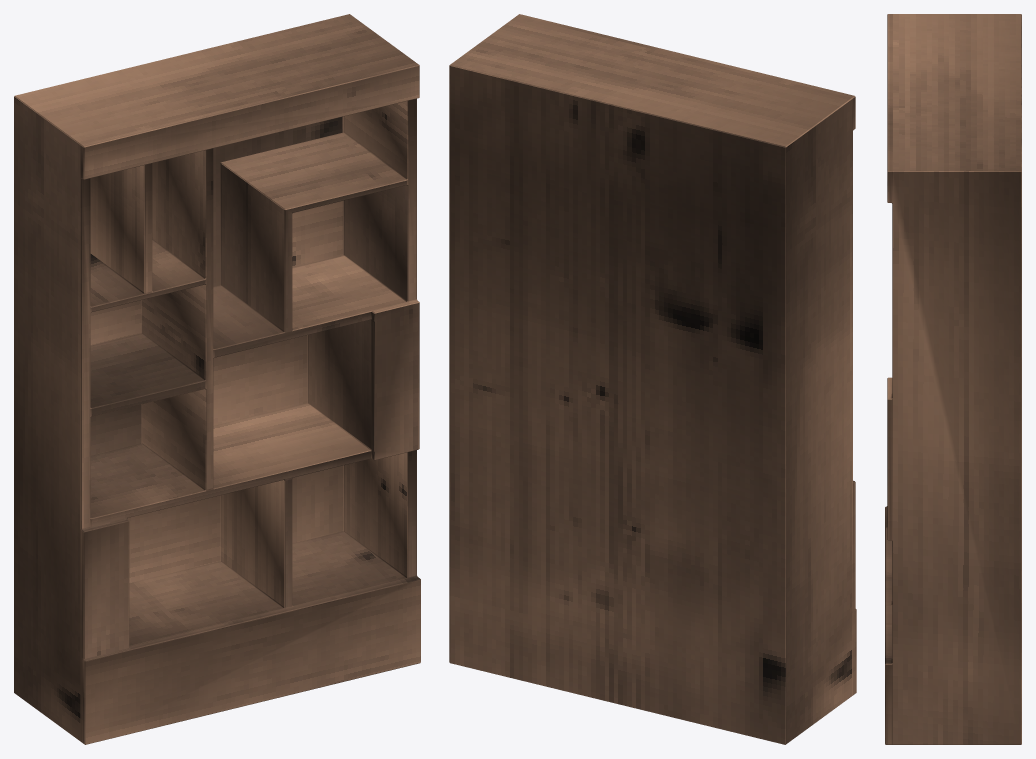
File: bookcase.glb
The picture shows the model from 3 angles, left to right: view 1: azimuth 30°, elevation 25°; view 2: azimuth 150°, elevation 25°; view 3: azimuth 270°, elevation 25°; orthographic projection. The views are drawn at different scales.
Visible parts, largest first — view 1: Shelf_Apt_01; view 2: Shelf_Apt_01; view 3: Shelf_Apt_01.
Part boxes in pixels (x1=…): Shelf_Apt_01: x1=14, y1=14, x2=420, y2=744; Shelf_Apt_01: x1=449, y1=14, x2=856, y2=744; Shelf_Apt_01: x1=885, y1=14, x2=1021, y2=744.
Size of the model in its own units: 1.24 by 2.1 by 0.4536.
1 material, 1 textured.
